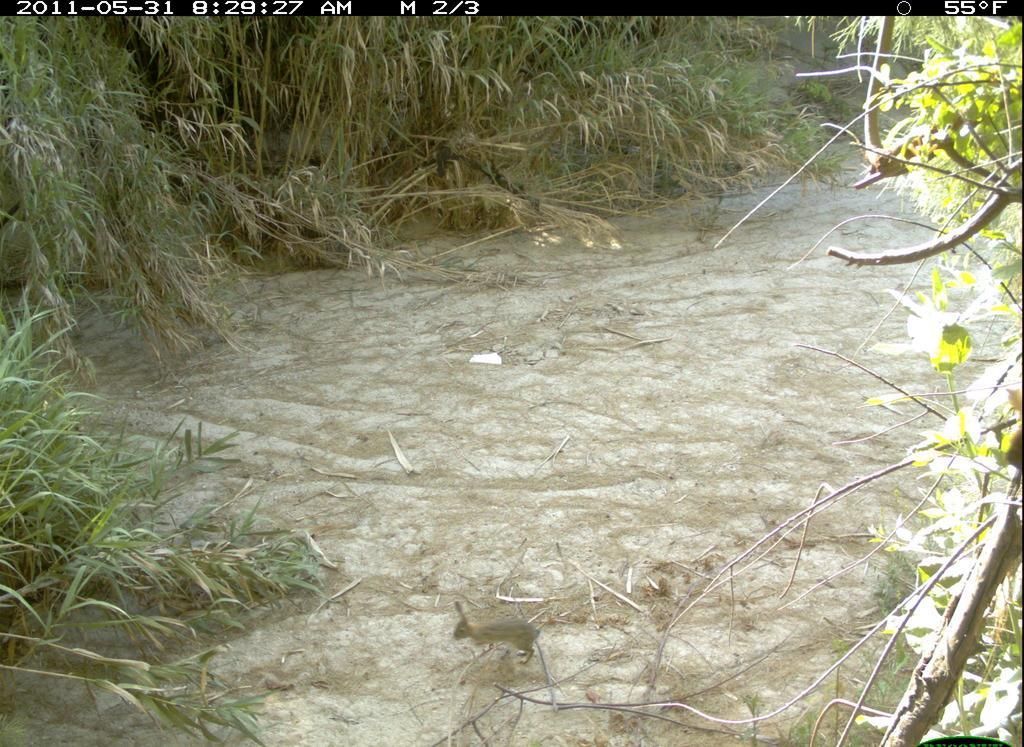rabbit: (425, 596, 560, 683)
